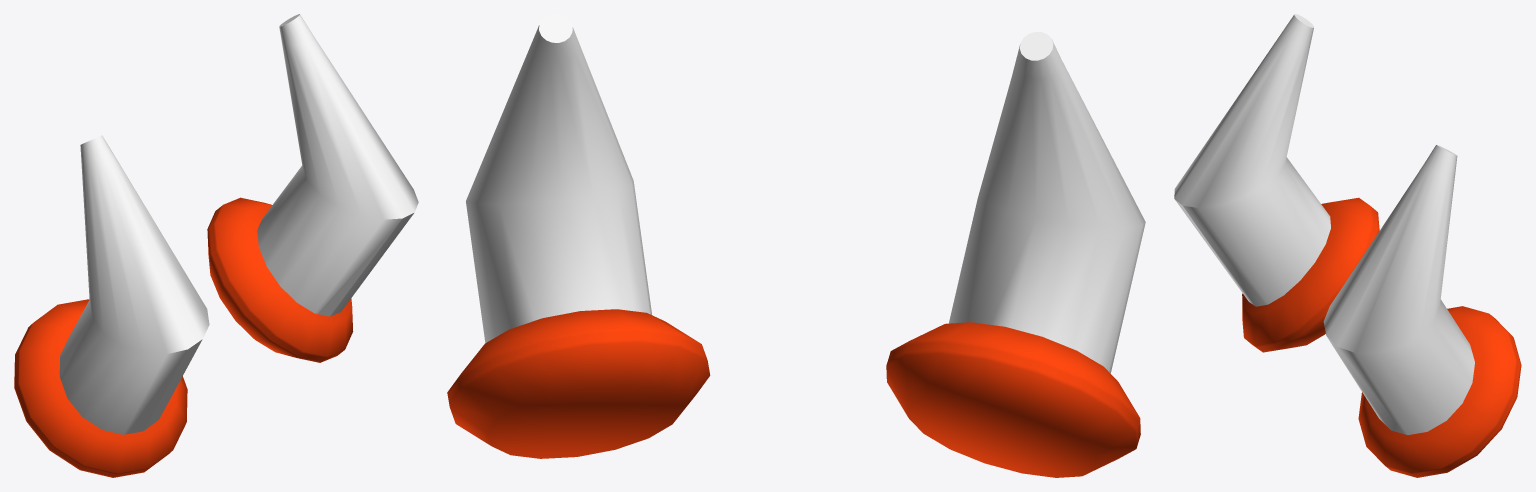
The picture shows the model from 3 angles, left to right: view 1: azimuth 30°, elevation 25°; view 2: azimuth 150°, elevation 25°; view 3: azimuth 270°, elevation 25°; orthographic projection. The views are drawn at different scales.
Visible parts, largest first — view 1: Cylinder.010, Cylinder_2; view 2: Cylinder.010, Cylinder_2; view 3: Cylinder.010, Cylinder_2.
Boxes of the visible parts, box(x1,y1,x2,y2) form: Cylinder.010: box(59, 14, 418, 434); Cylinder_2: box(14, 197, 353, 477); Cylinder.010: box(466, 14, 1145, 373); Cylinder_2: box(447, 309, 1140, 477); Cylinder.010: box(1174, 14, 1474, 434); Cylinder_2: box(1242, 197, 1521, 477).
Bounding box in the file's own units: 55.98 × 40.28 × 40.64.
